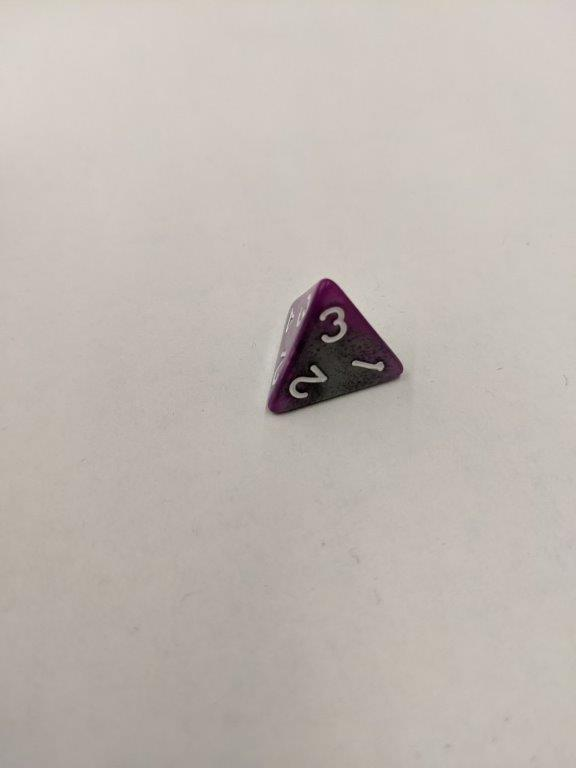d4-3: (265, 274, 405, 419)
